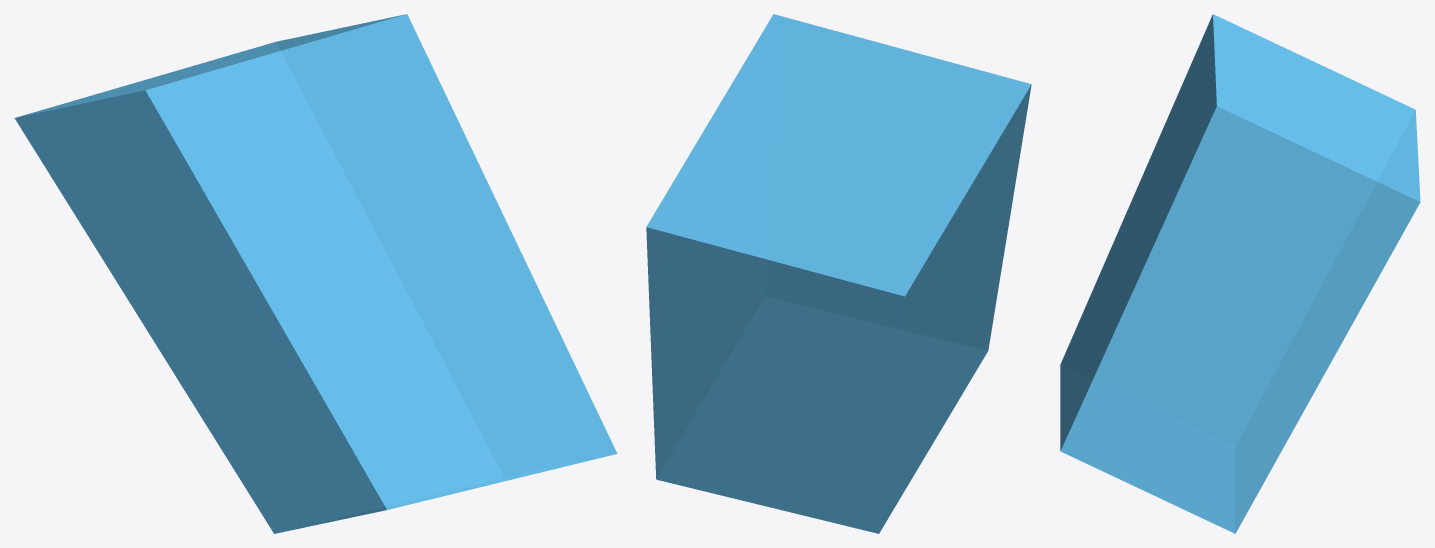
File: Event_421115418_HBrechit_7.fbx
3 renders of one model, left to right at view 1: azimuth 30°, elevation 25°; view 2: azimuth 150°, elevation 25°; view 3: azimuth 270°, elevation 25°, orthographic. The views are drawn at different scales.
Parts seen in each view (by area): view 1: Model; view 2: Model; view 3: Model.
Boxes of the visible parts, <box> form: Model: <box>14,14,617,533</box>; Model: <box>646,14,1031,533</box>; Model: <box>1060,14,1420,533</box>.
Bounding box in the file's own units: 0.6802 × 0.8685 × 0.7331.
